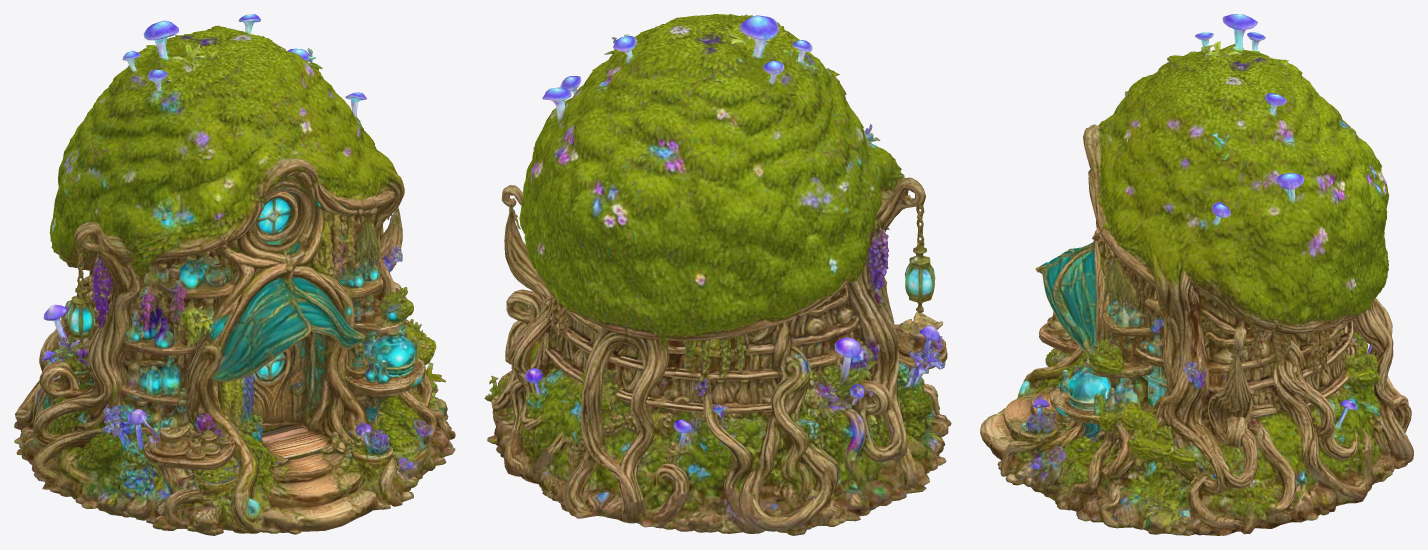
The model's file is herbalist-hut.glb.
The picture shows the model from 3 angles, left to right: view 1: azimuth 30°, elevation 25°; view 2: azimuth 150°, elevation 25°; view 3: azimuth 270°, elevation 25°; orthographic projection. The views are drawn at different scales.
Size of the model in its own units: 1.83 by 1.9 by 1.83.
1 material, 1 textured.
